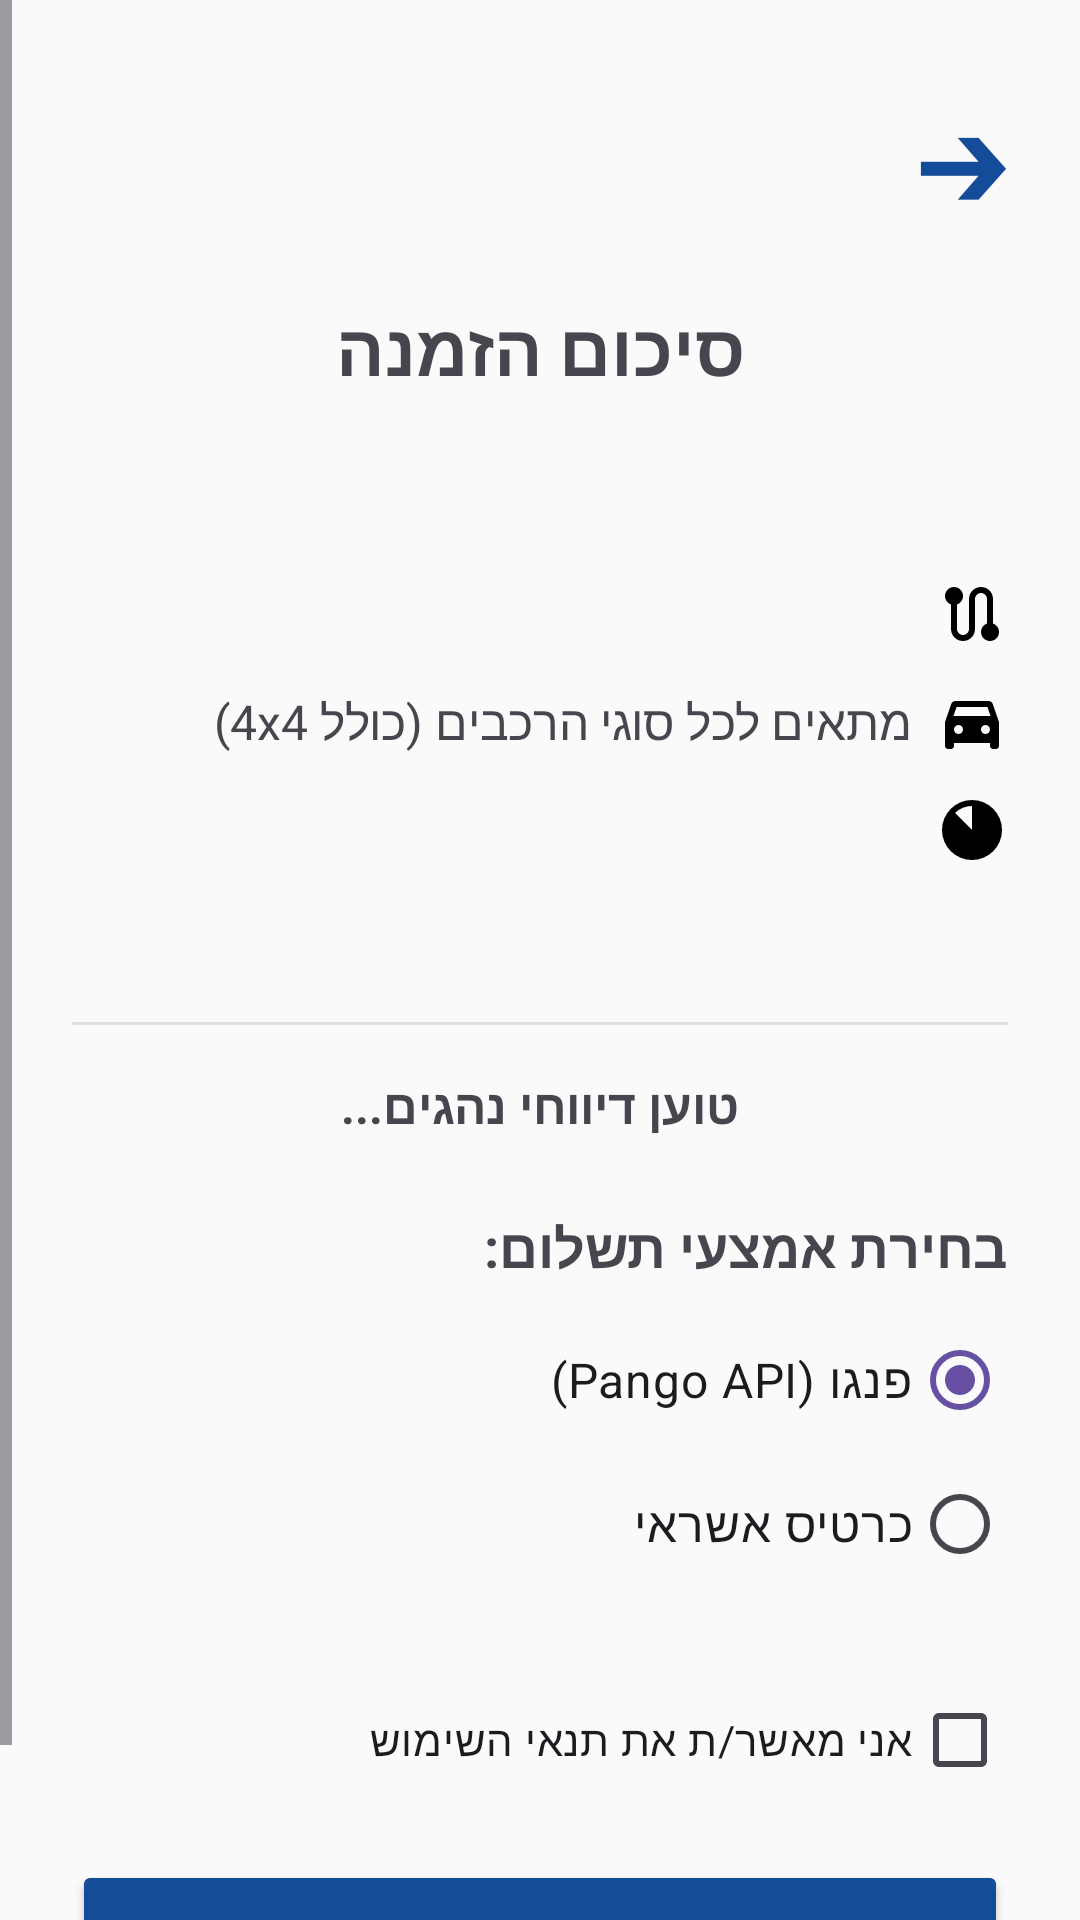

Icon click points for this 1080x1920 phone screenshot, format (x=x, y=y):
car: (x=972, y=725)
clock: (x=972, y=830)
route: (x=972, y=614)
